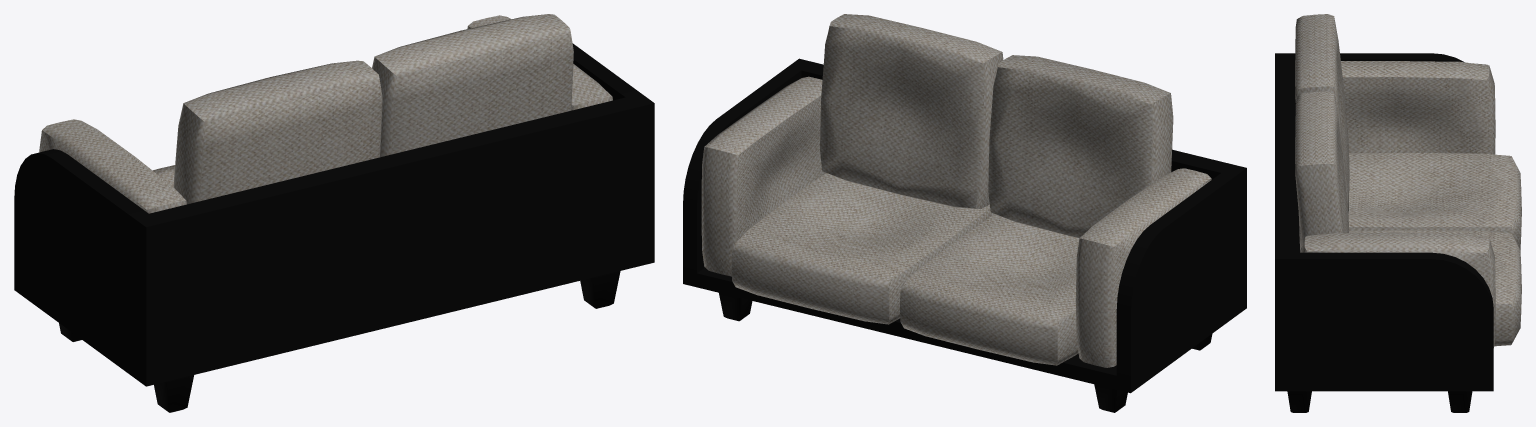
Rendered from furniture_seating_210068.glb.
3 views of the same model, side by side, from view 1: azimuth 30°, elevation 25°; view 2: azimuth 150°, elevation 25°; view 3: azimuth 270°, elevation 25° (orthographic). The views are drawn at different scales.
Visible parts, largest first — view 1: furniture_seating_210068; view 2: furniture_seating_210068; view 3: furniture_seating_210068.
Boxes of the visible parts, x1,y1,x2,y2 form: furniture_seating_210068: (14, 14, 654, 412); furniture_seating_210068: (683, 14, 1246, 412); furniture_seating_210068: (1275, 14, 1521, 412).
Size of the model in its own units: 1.61 by 0.8773 by 0.8179.
Materials: 1 (1 with a texture image).
